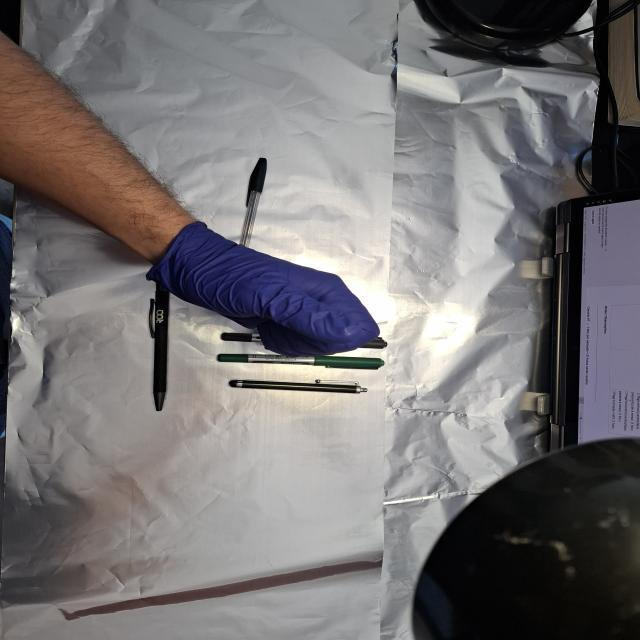glove_on: (140, 220, 383, 360)
